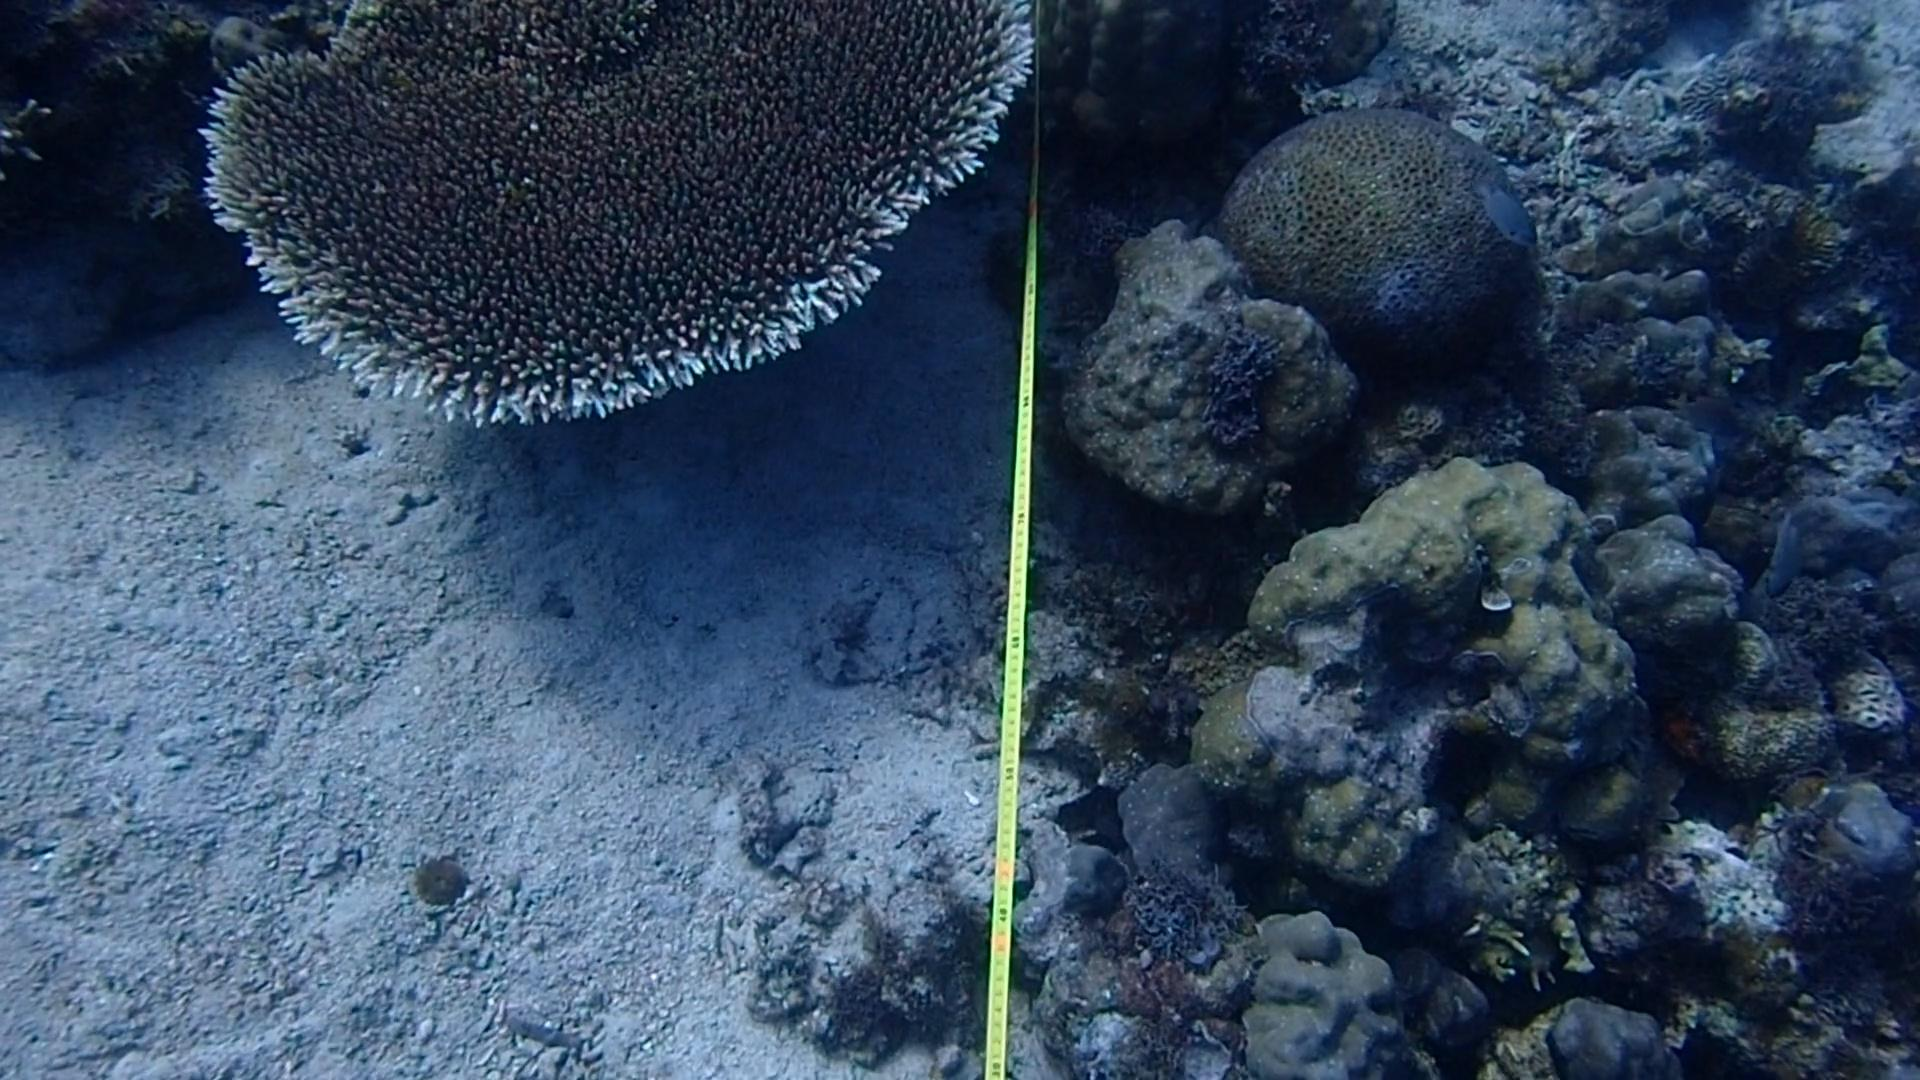Light Fish: (1474, 173, 1539, 265), (1759, 492, 1804, 624)
